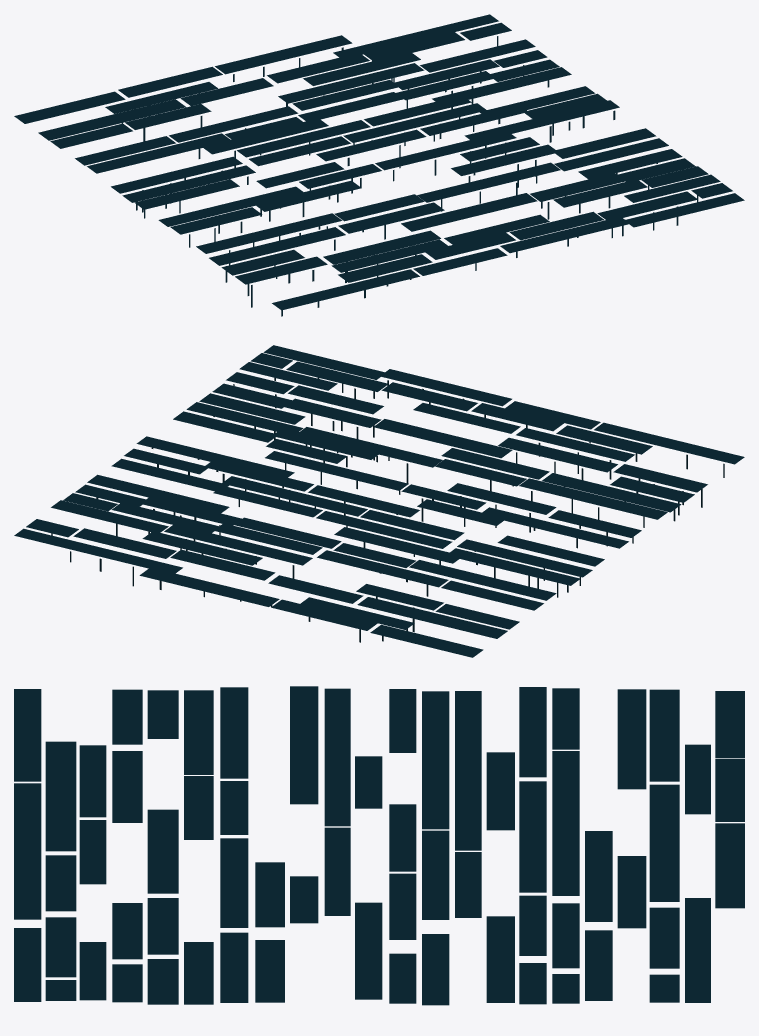
Rendered from floor_v4_8.glb.
3 views of the same model, one above another, from view 1: azimuth 30°, elevation 25°; view 2: azimuth 150°, elevation 25°; view 3: azimuth 270°, elevation 25° (orthographic). The views are drawn at different scales.
Parts seen in each view (by area): view 1: stripes_plates, stripes_streaks_hang; view 2: stripes_plates, stripes_streaks_hang; view 3: stripes_plates.
Boxes of the visible parts, box(x1,y1,x2,y2) form: stripes_plates: box(14, 14, 744, 310); stripes_streaks_hang: box(121, 36, 698, 316); stripes_plates: box(14, 345, 744, 657); stripes_streaks_hang: box(51, 377, 724, 642); stripes_plates: box(14, 686, 744, 1005).
Bounding box in the file's own units: 8 × 0.49 × 8.
